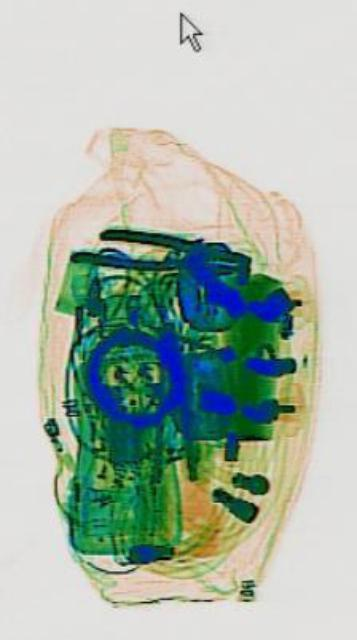Pliers: (66, 221, 249, 281)
